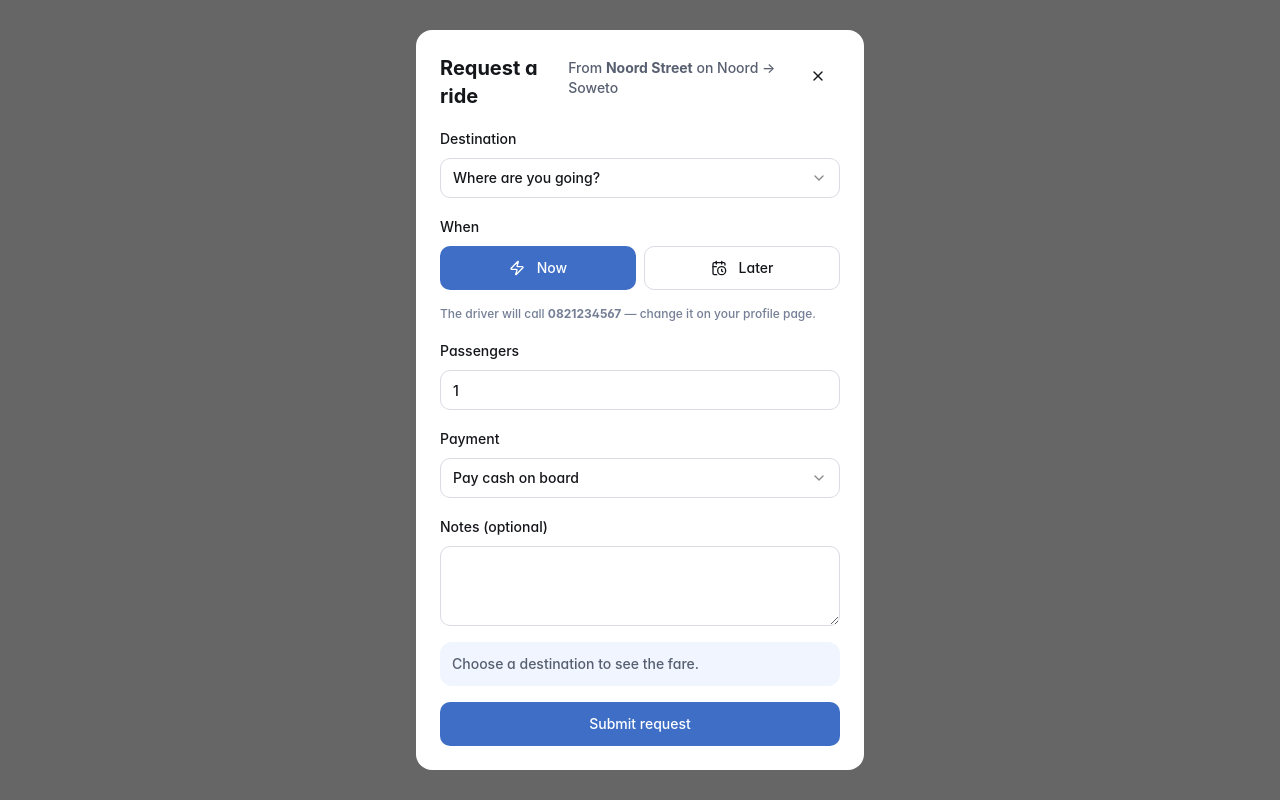
Scenario: RideRequestModal — fare display › says so plainly when the route has no fare
Click the dropdown named "Destination".
click(527, 178)  # box [440,158,840,198]
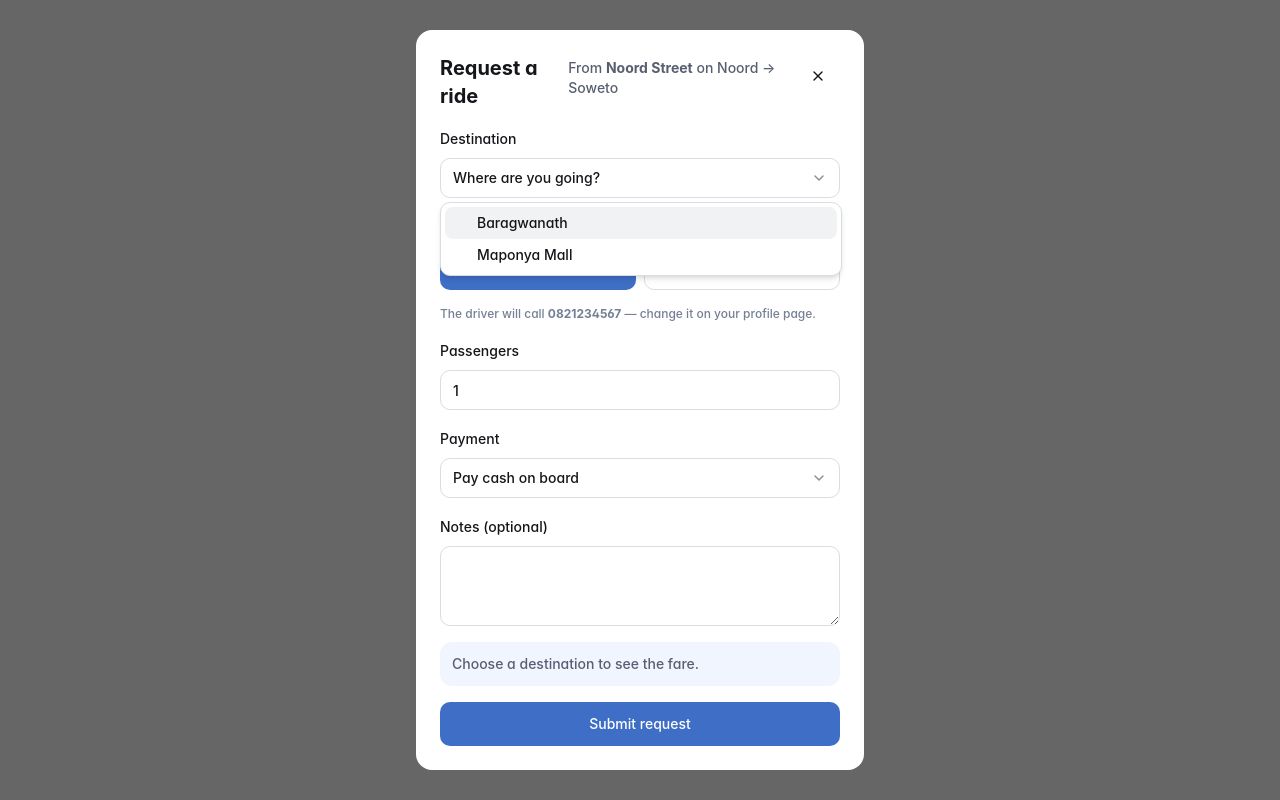
Click the option "Baragwanath".
click(522, 222)  # box [445,207,837,239]
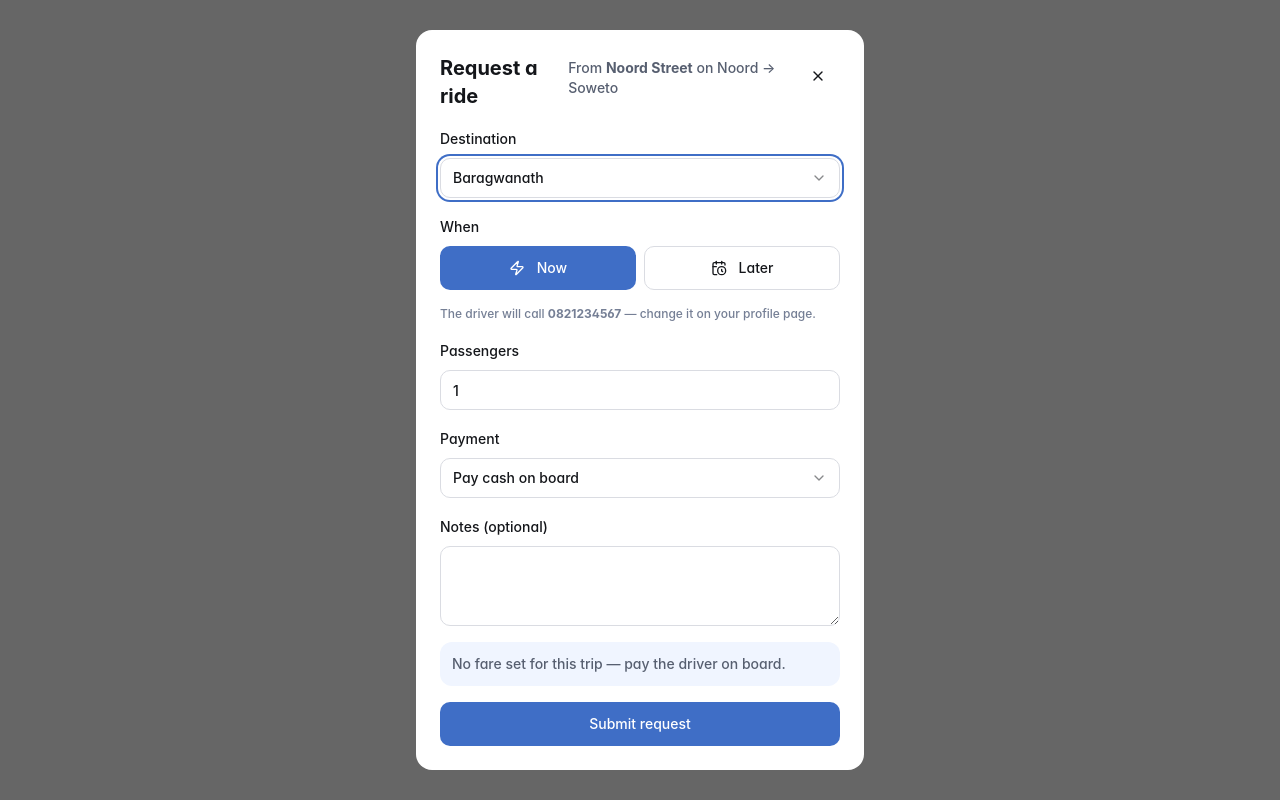
Now the text "No fare set for this trip — pay the driver on board." is shown, box [452,654,828,674]
